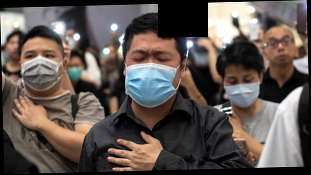with_mask: (126, 46, 181, 106), (20, 45, 65, 94), (223, 71, 262, 109), (67, 60, 83, 80), (191, 51, 209, 68)
without_mask: (265, 32, 295, 66), (5, 37, 22, 62)
